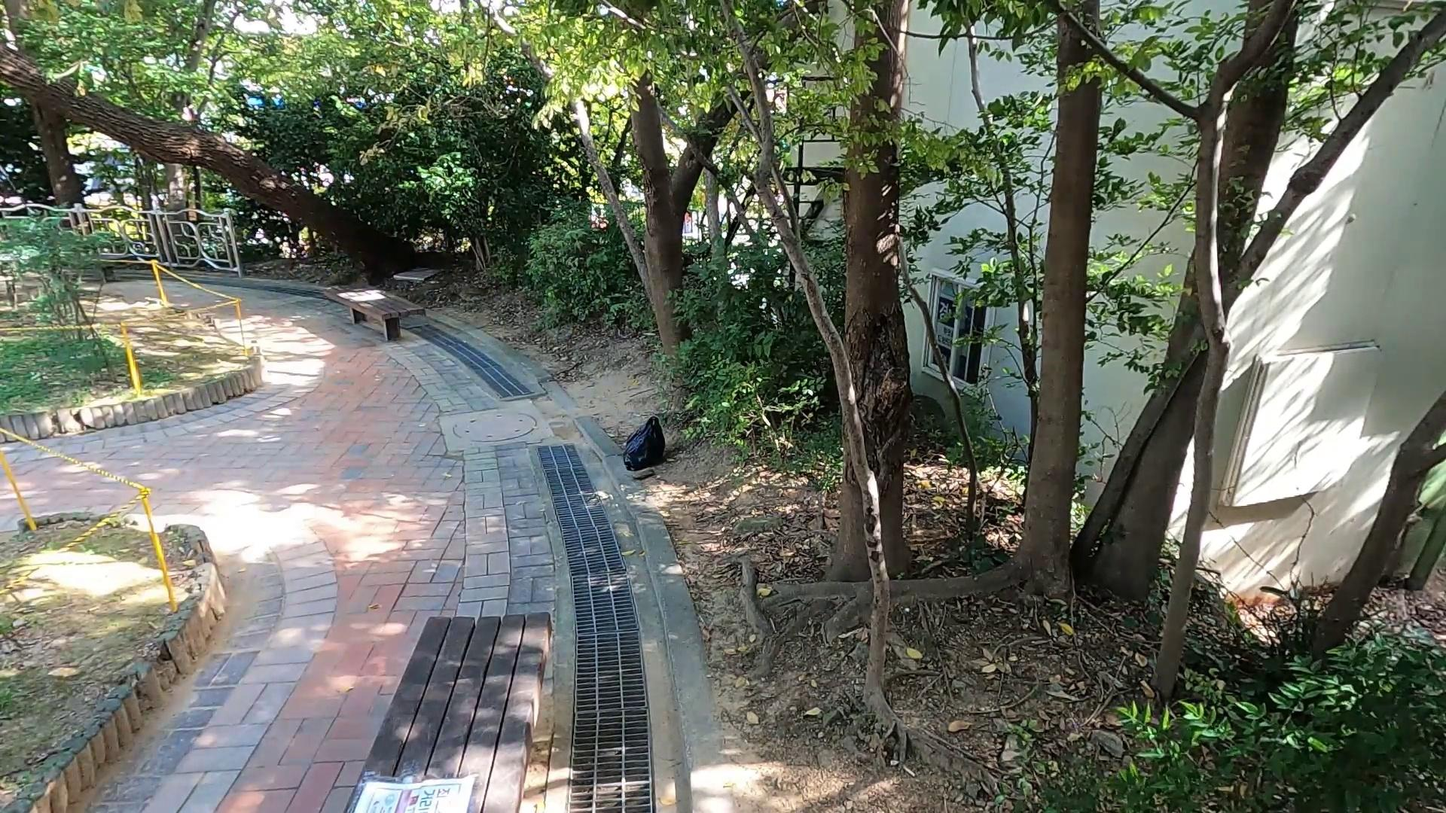trash: (621, 414, 670, 473)
